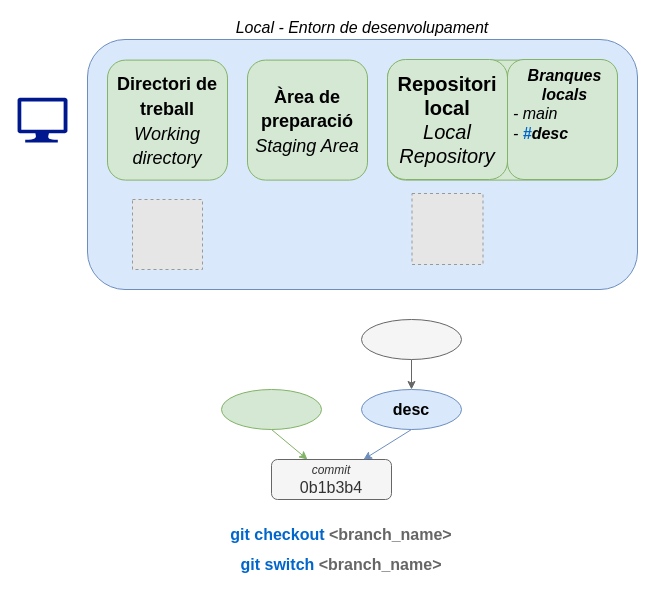
The diagram is 655 pixels wide and 596 high, and some of its shapes have lost their labels. Grey dashed boxes stand in for pictures. The centre of each missing label's shape, as x and y in pixels:
HEAD: [411,339]
main: [271,409]
